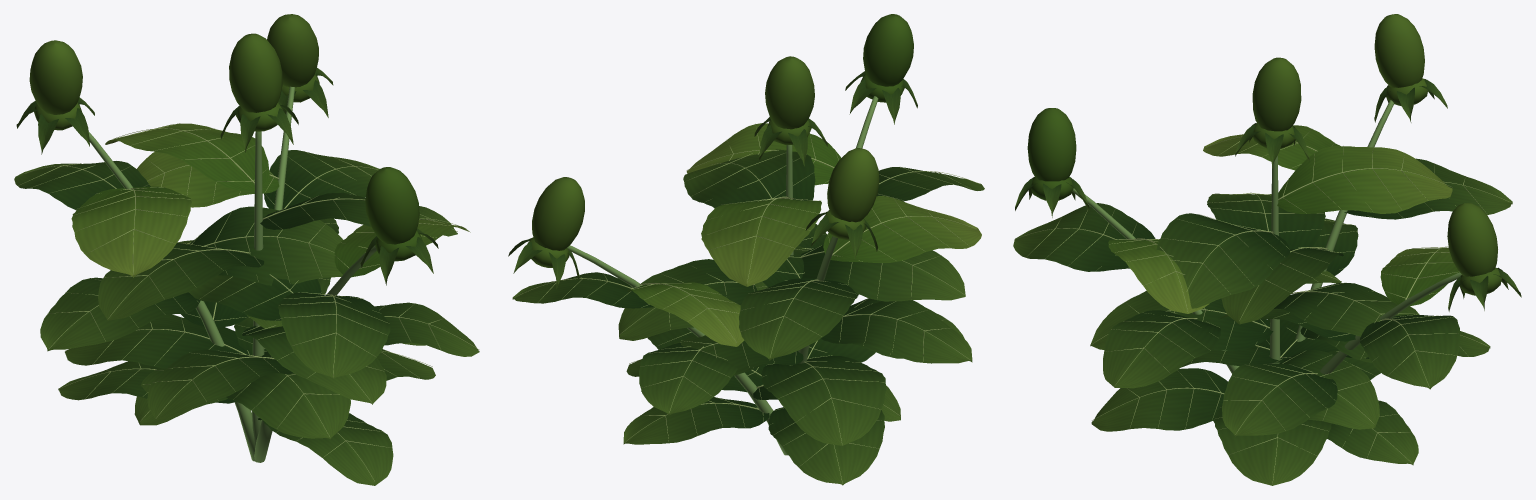
The model's file is daisy-07.glb.
The picture shows the model from 3 angles, left to right: view 1: azimuth 30°, elevation 25°; view 2: azimuth 150°, elevation 25°; view 3: azimuth 270°, elevation 25°; orthographic projection. The views are drawn at different scales.
Parts seen in each view (by area): view 1: daisy_stage_07_leaf_veins.012, daisy_stage_07_young_leaf.012, daisy_stage_07_raised_midveins.012, daisy_stage_07_stem_fibres.012; view 2: daisy_stage_07_leaf_veins.012, daisy_stage_07_young_leaf.012, daisy_stage_07_raised_midveins.012, daisy_stage_07_stem_fibres.012; view 3: daisy_stage_07_leaf_veins.012, daisy_stage_07_young_leaf.012, daisy_stage_07_raised_midveins.012, daisy_stage_07_stem_fibres.012.
Part boxes in pixels (box(x1,y1,x2,y2)): daisy_stage_07_leaf_veins.012: box(14, 68, 479, 485); daisy_stage_07_young_leaf.012: box(29, 14, 470, 277); daisy_stage_07_raised_midveins.012: box(18, 123, 479, 481); daisy_stage_07_stem_fibres.012: box(88, 86, 376, 462); daisy_stage_07_leaf_veins.012: box(508, 71, 984, 485); daisy_stage_07_young_leaf.012: box(527, 14, 981, 346); daisy_stage_07_raised_midveins.012: box(514, 124, 981, 484); daisy_stage_07_stem_fibres.012: box(567, 96, 878, 455); daisy_stage_07_leaf_veins.012: box(1013, 79, 1521, 485); daisy_stage_07_young_leaf.012: box(1027, 14, 1501, 313); daisy_stage_07_raised_midveins.012: box(1015, 129, 1511, 484); daisy_stage_07_stem_fibres.012: box(1072, 100, 1461, 374).
Bounding box in the file's own units: 0.279 × 0.2729 × 0.3183.
4 materials, 2 textured.
